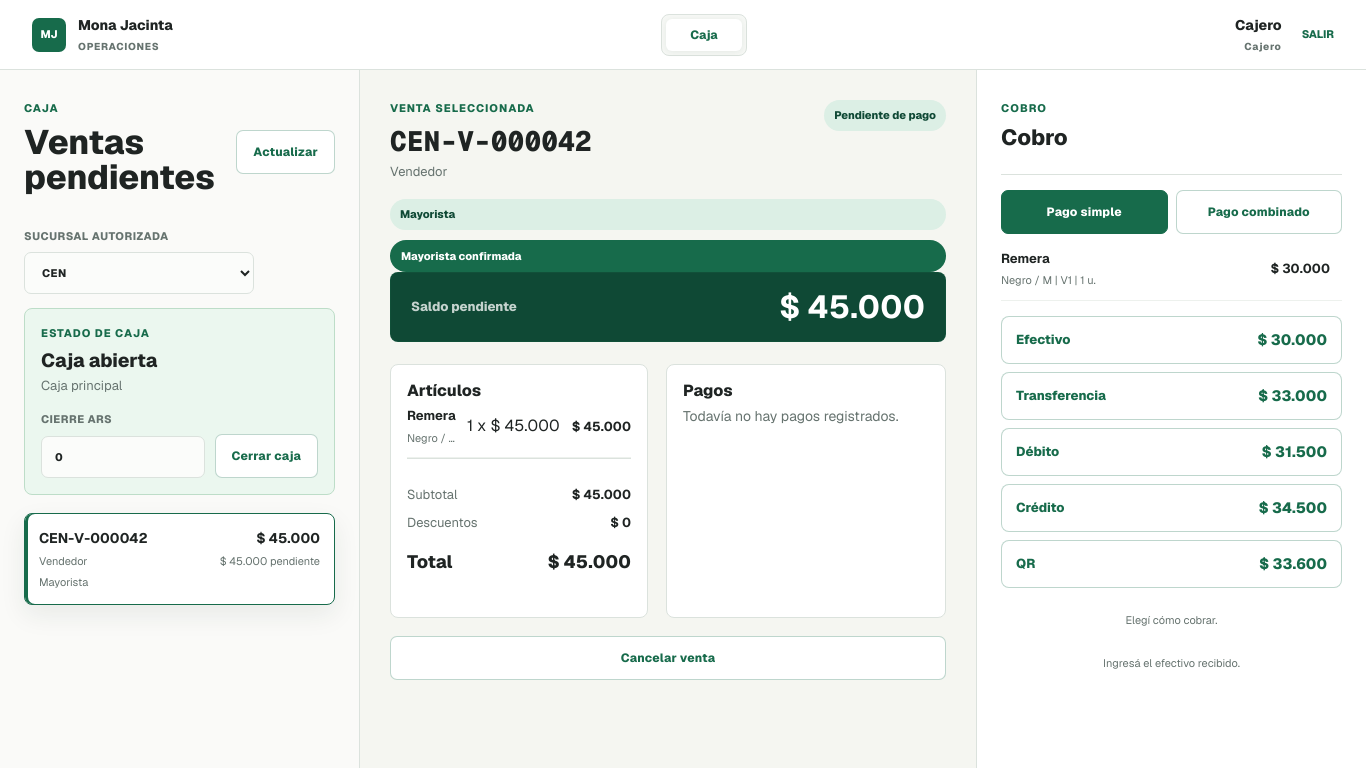
Test: Caja — tipo de cobro › UI-QR-5 mayorista: el precio de QR es el que el servidor calcula sobre la lista mayorista
Expected: the heading "Ventas pendientes" is shown, 24,124 -> 236,196
Expected: the heading "CEN-V-000042" is shown, 390,124 -> 592,157
Click the button "QR $ 33.600" at (1293, 563), box 1001,540 -> 1342,588
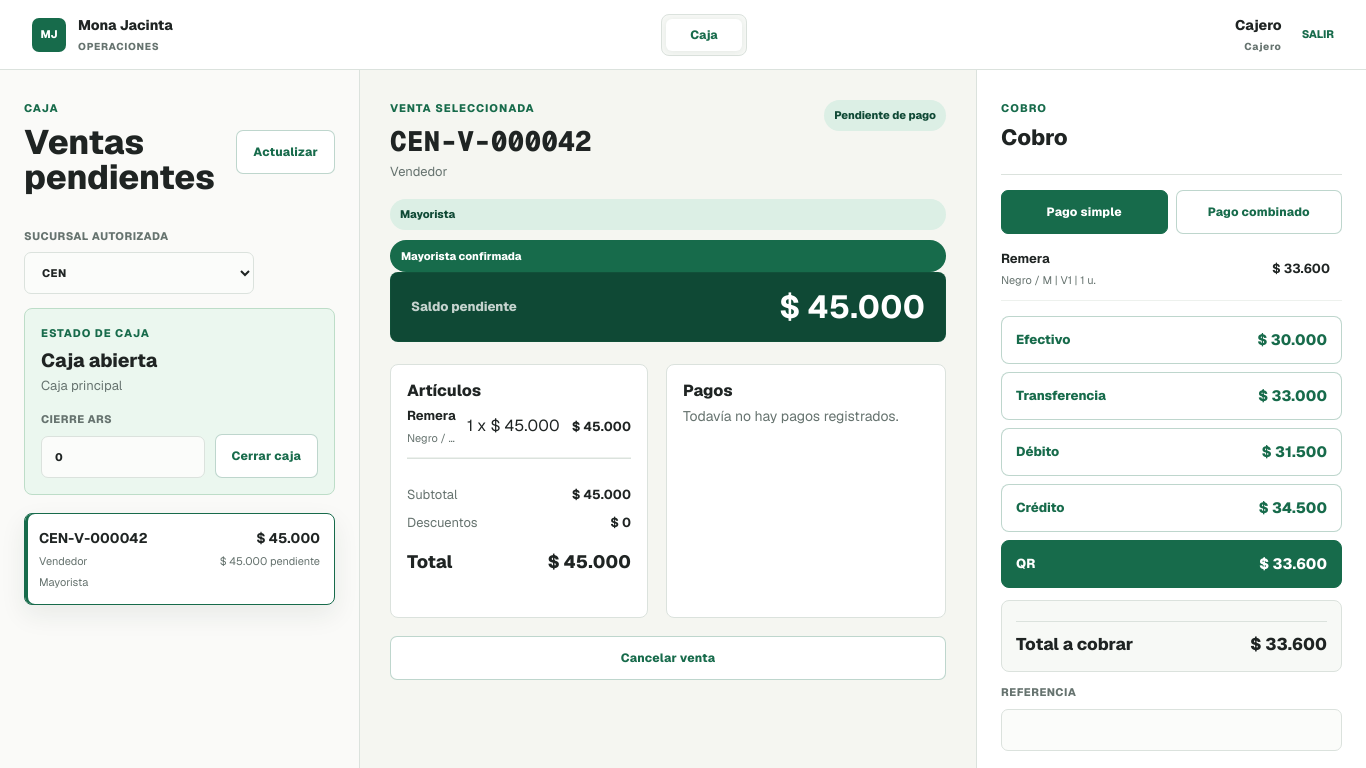
Expected: the text with test id "simple-total" shows "33.600", 1250,633 -> 1327,655
Type "QR0044" into the field labelled "Referencia" at (1172, 730), box 1001,709 -> 1342,751
(page scrolled)
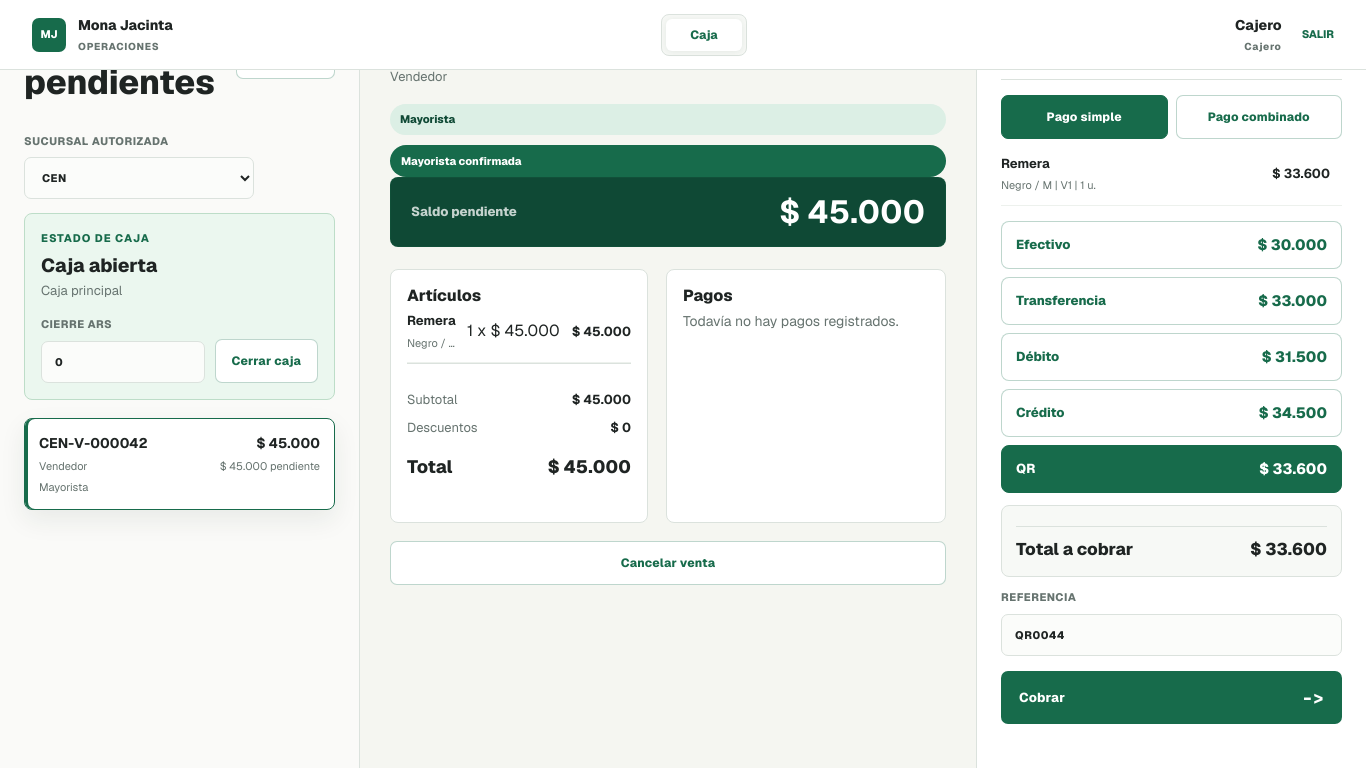
Expected: the button "Cobrar ->" is enabled
Click the button "Cobrar ->" at (1042, 698), box 1001,671 -> 1342,724
(page scrolled)
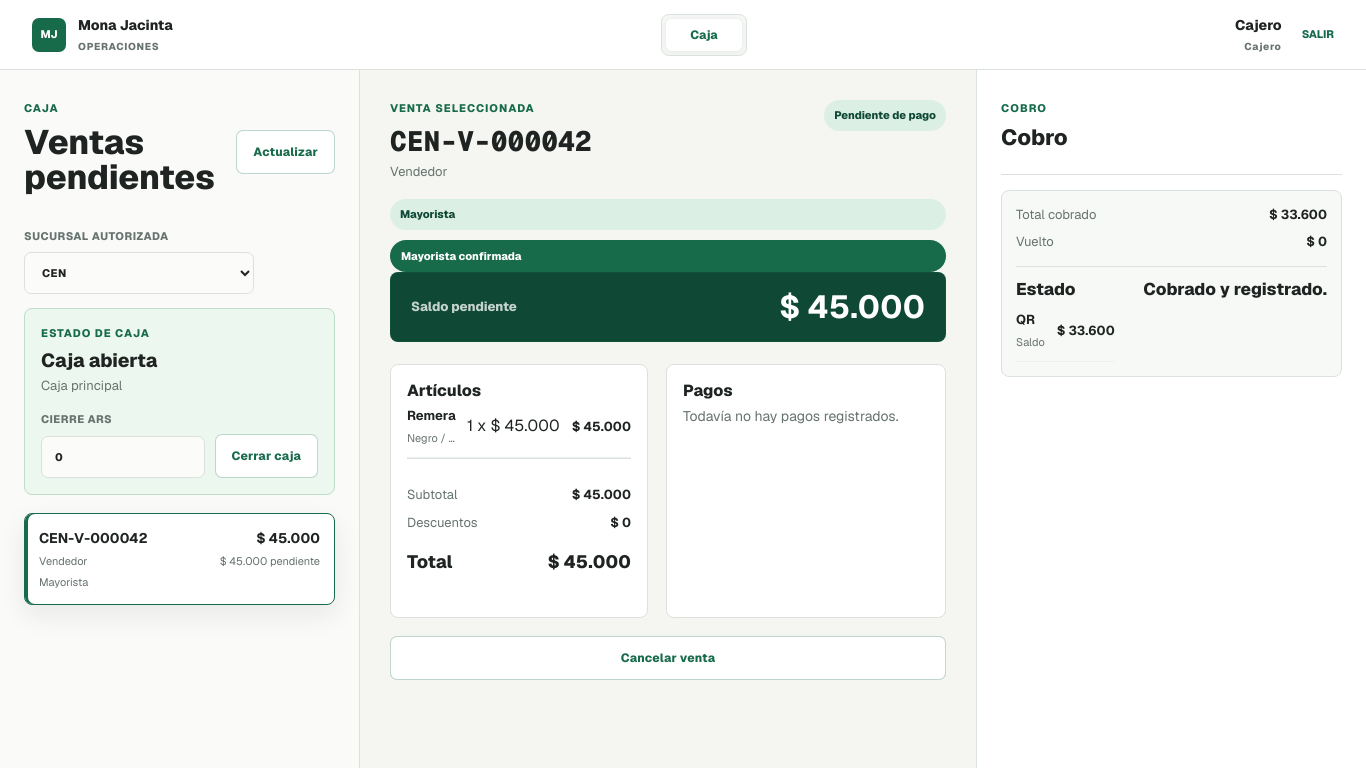
Expected: the element with test id "proportional-result" is shown, 1001,190 -> 1342,377
